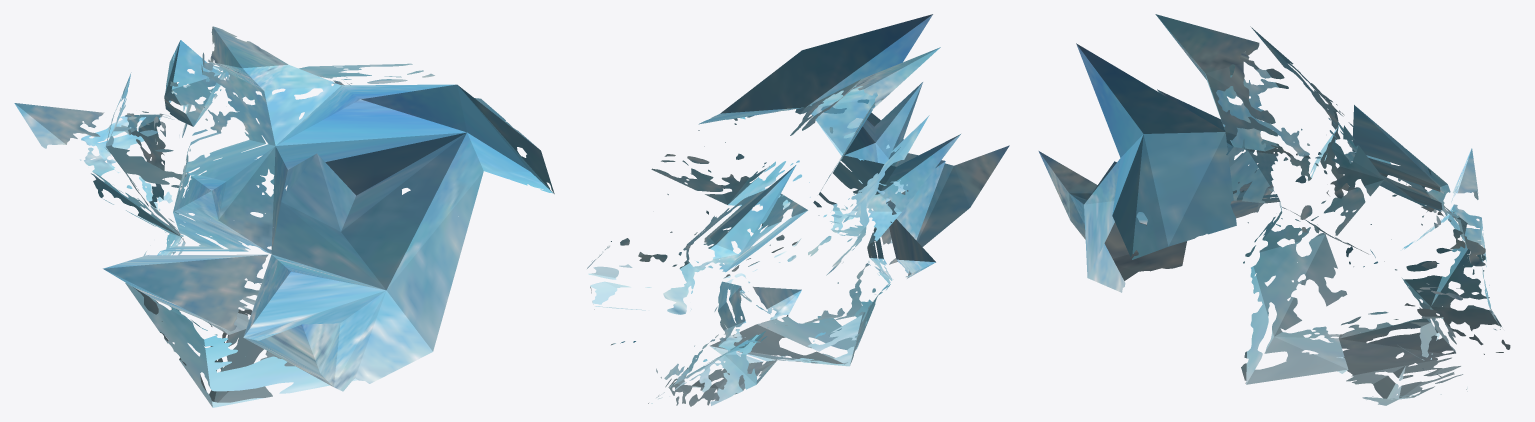
The model's file is wolverine_rtfoot_ice.glb.
The picture shows the model from 3 angles, left to right: view 1: azimuth 30°, elevation 25°; view 2: azimuth 150°, elevation 25°; view 3: azimuth 270°, elevation 25°; orthographic projection. The views are drawn at different scales.
Parts seen in each view (by area): view 1: wolverine_rtfoot_ice_0; view 2: wolverine_rtfoot_ice_0; view 3: wolverine_rtfoot_ice_0.
Part boxes in pixels (box(x1,y1,x2,y2)): wolverine_rtfoot_ice_0: box(14, 26, 554, 407); wolverine_rtfoot_ice_0: box(587, 14, 1009, 406); wolverine_rtfoot_ice_0: box(1038, 14, 1510, 405).
Size of the model in its own units: 7.72 by 8.24 by 11.39.
1 material, 1 textured.
